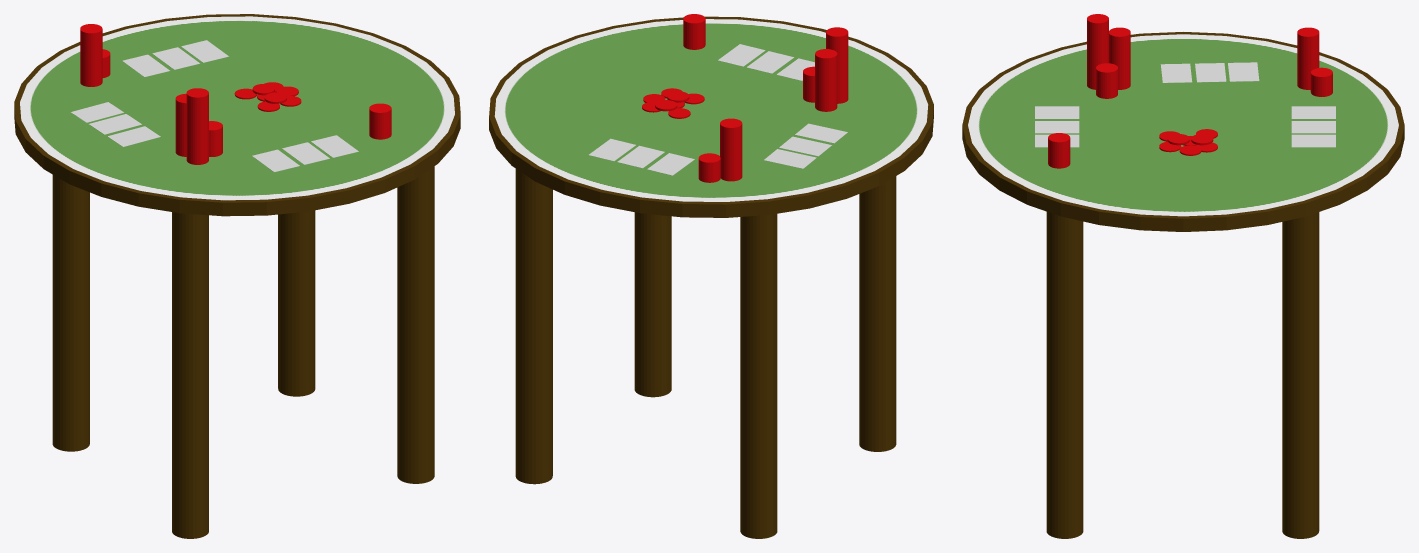
Rendered from Table.glb.
3 views of the same model, side by side, from view 1: azimuth 30°, elevation 25°; view 2: azimuth 150°, elevation 25°; view 3: azimuth 270°, elevation 25° (orthographic).
Parts seen in each view (by area): view 1: Cylinder.005, Cylinder.002, Cylinder.003, Cylinder, Cylinder.001, Cylinder.004, Cylinder.009, Cylinder.008, Cylinder.006, Cube.008, Cube.006, Cube.002 (+6 smaller); view 2: Cylinder.005, Cylinder, Cylinder.001, Cylinder.002, Cylinder.003, Cylinder.009, Cylinder.006, Cylinder.004, Cylinder.008, Cylinder.010, Cube.007, Cube.008 (+6 smaller); view 3: Cylinder.005, Cylinder.003, Cylinder.001, Cylinder.004, Cylinder.009, Cylinder.006, Cylinder.008, Cylinder.007, Cylinder.010, Cube.003, Cube.006, Cube.002 (+5 smaller).
Boxes of the visible parts, <box> form: Cylinder.005: <box>14,14,460,216</box>; Cylinder.002: <box>172,212,208,538</box>; Cylinder.003: <box>397,166,434,483</box>; Cylinder: <box>52,175,89,451</box>; Cylinder.001: <box>278,210,315,396</box>; Cylinder.004: <box>186,88,208,164</box>; Cylinder.009: <box>80,24,102,86</box>; Cylinder.008: <box>369,103,391,139</box>; Cylinder.006: <box>175,93,186,156</box>; Cube.008: <box>107,126,160,146</box>; Cube.006: <box>71,102,123,122</box>; Cube.002: <box>252,149,299,172</box>; Cylinder.005: <box>489,16,933,217</box>; Cylinder: <box>740,214,777,538</box>; Cylinder.001: <box>515,169,552,484</box>; Cylinder.002: <box>859,176,896,451</box>; Cylinder.003: <box>634,212,671,397</box>; Cylinder.009: <box>720,118,742,181</box>; Cylinder.006: <box>815,49,837,111</box>; Cylinder.004: <box>826,27,848,103</box>; Cylinder.008: <box>683,14,705,49</box>; Cylinder.010: <box>698,153,720,182</box>; Cube.007: <box>779,136,831,156</box>; Cube.008: <box>795,123,847,143</box>; Cylinder.005: <box>962,32,1404,231</box>; Cylinder.003: <box>1046,212,1083,538</box>; Cylinder.001: <box>1282,212,1319,538</box>; Cylinder.004: <box>1087,14,1108,89</box>; Cylinder.009: <box>1297,27,1319,89</box>; Cylinder.006: <box>1109,27,1130,89</box>; Cylinder.008: <box>1048,133,1070,168</box>; Cylinder.007: <box>1096,63,1117,98</box>; Cylinder.010: <box>1310,67,1332,96</box>; Cube.003: <box>1291,134,1335,147</box>; Cube.006: <box>1228,62,1259,81</box>; Cube.002: <box>1035,106,1079,118</box>.
Bounding box in the file's own units: 6 × 6.22 × 6.
3 materials, 1 textured.
